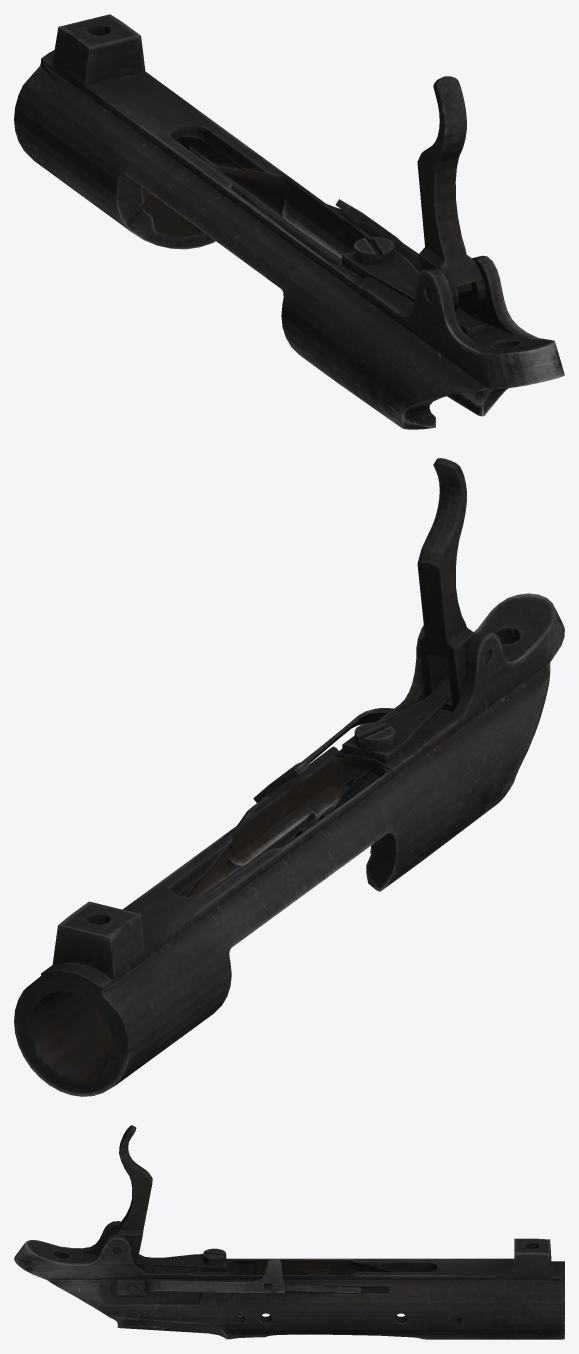
3 views of the same model, one above another, from view 1: azimuth 30°, elevation 25°; view 2: azimuth 150°, elevation 25°; view 3: azimuth 270°, elevation 25° (orthographic). The views are drawn at different scales.
Parts seen in each view (by area): view 1: TW_5ae08f0a5acfc408fb1398a1_PZ_Import; view 2: TW_5ae08f0a5acfc408fb1398a1_PZ_Import; view 3: TW_5ae08f0a5acfc408fb1398a1_PZ_Import.
Boxes of the visible parts, x1,y1,x2,y2 form: TW_5ae08f0a5acfc408fb1398a1_PZ_Import: (14,14,564,429); TW_5ae08f0a5acfc408fb1398a1_PZ_Import: (14,458,564,1096); TW_5ae08f0a5acfc408fb1398a1_PZ_Import: (14,1125,564,1339).
Bounding box in the file's own units: 0.0189 × 0.1308 × 0.055.
1 material, 1 textured.
